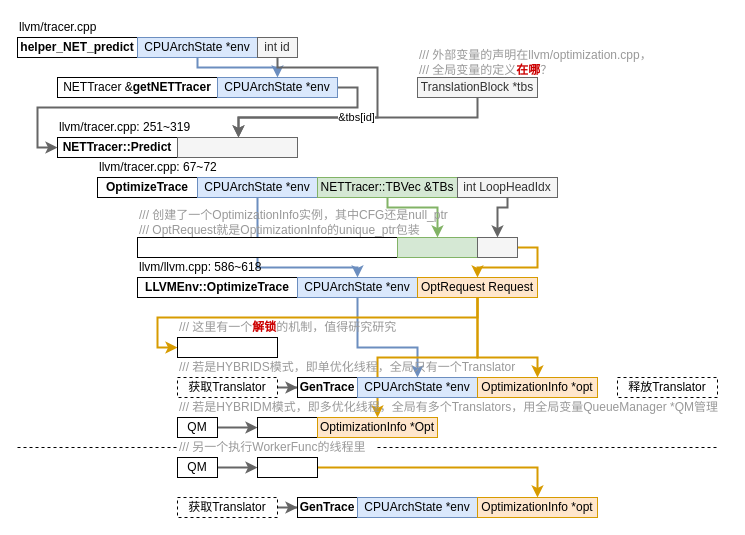
This 745x535 diagram has some shape labels left out. Here are the shapes that lost their labels. From the top down, the centre of each, then its label:
At (x=237, y=147): "TranslationBlock *tb".
At (x=267, y=247): "OptRequest OptimizationInfo::CreateRequest".
At (x=437, y=247): "TBVec &trace".
At (x=497, y=247): "int idx".
At (x=227, y=347): "ComposeCFG".
At (x=287, y=427): "Enqueue".
At (x=287, y=467): "Dequeue".
